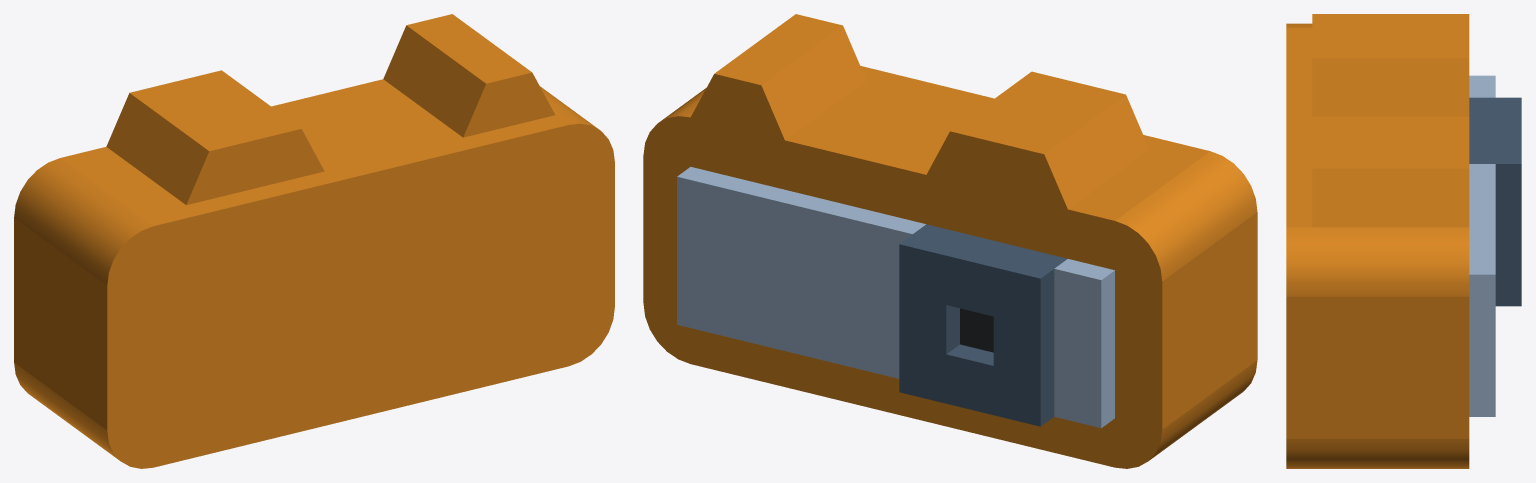
File: camera.fbx
The picture shows the model from 3 angles, left to right: view 1: azimuth 30°, elevation 25°; view 2: azimuth 150°, elevation 25°; view 3: azimuth 270°, elevation 25°; orthographic projection. The views are drawn at different scales.
Parts seen in each view (by area): view 1: generated; view 2: generated; view 3: generated.
Part boxes in pixels (<box>): generated: <box>14,14,614,468</box>; generated: <box>643,14,1257,468</box>; generated: <box>1286,14,1521,468</box>.
Size of the model in its own units: 110 by 60 by 45.
